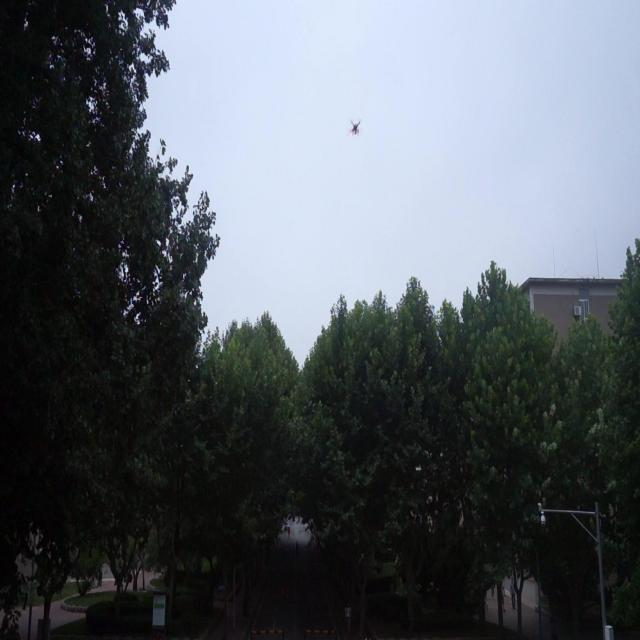UAV: (349, 120, 361, 136)
